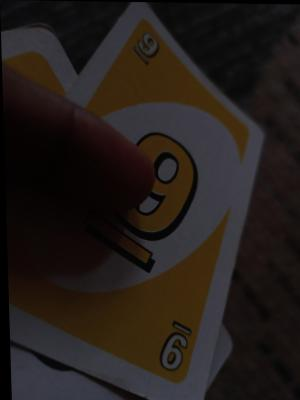num_9: (135, 303, 198, 383), (125, 23, 170, 97)
